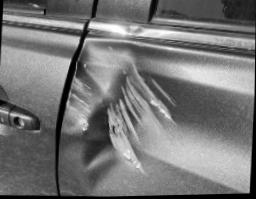Door: (48, 35, 189, 180)
